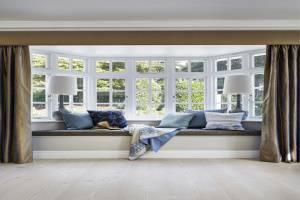window: (28, 45, 270, 124)
